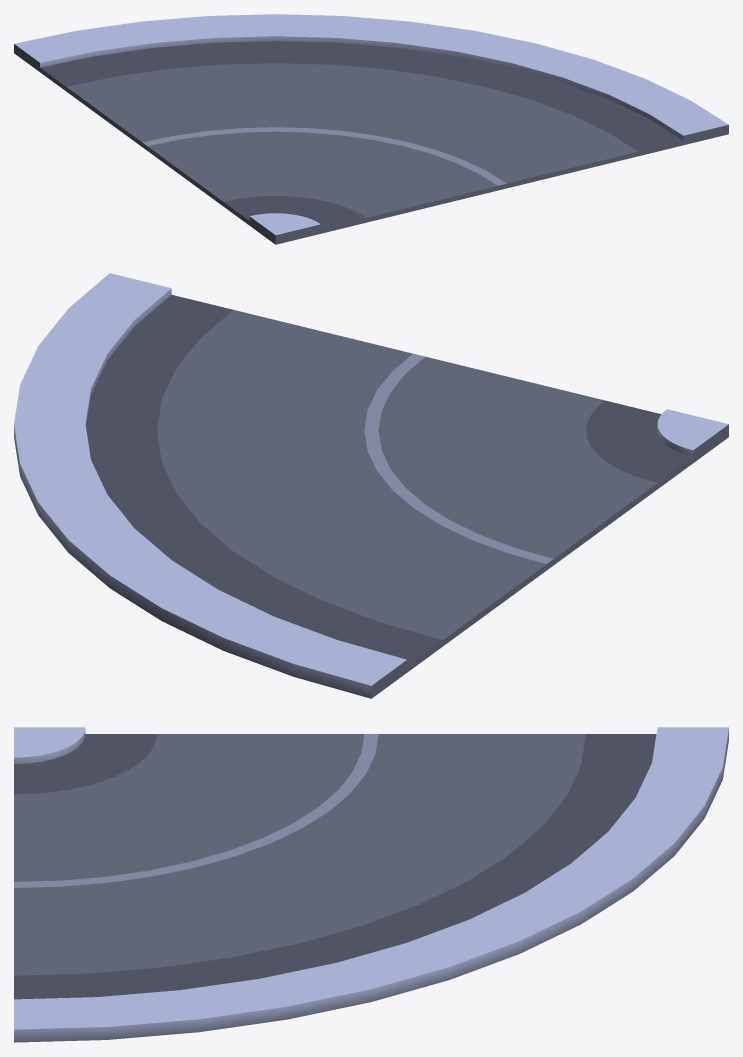
File: road-bend.glb
3 renders of one model, top to bottom at view 1: azimuth 30°, elevation 25°; view 2: azimuth 150°, elevation 25°; view 3: azimuth 270°, elevation 25°, orthographic. The views are drawn at different scales.
Parts seen in each view (by area): view 1: road-bend; view 2: road-bend; view 3: road-bend.
Part boxes in pixels (left/top/right/bottom): road-bend: left=14, top=14, right=728, bottom=244; road-bend: left=14, top=273, right=728, bottom=698; road-bend: left=14, top=727, right=728, bottom=1042.
Size of the model in its own units: 1 by 0.02 by 1.
Materials: 1 (1 with a texture image).
